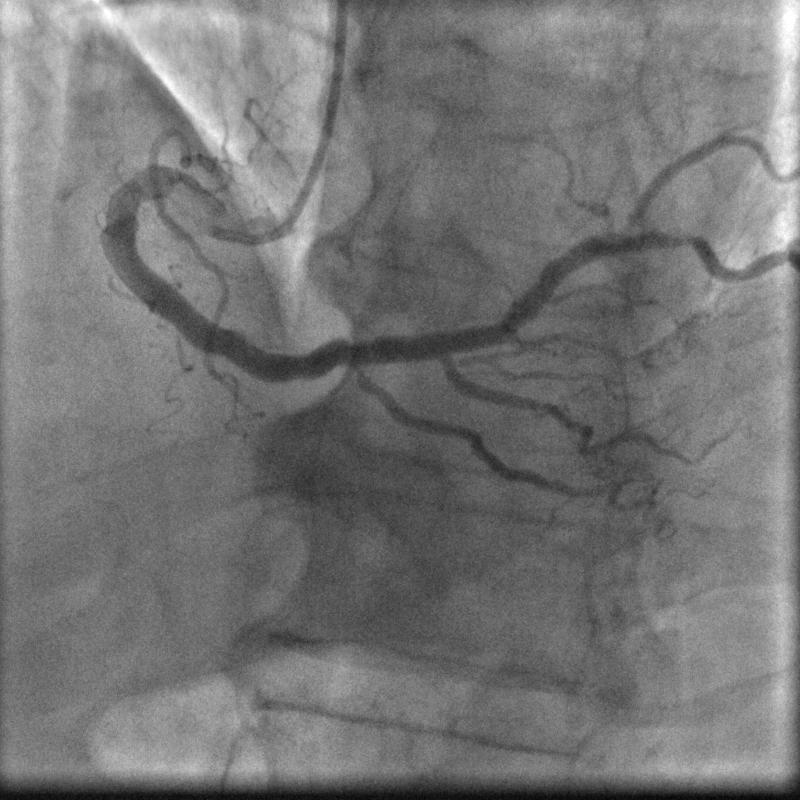Stenosis: (645, 228, 705, 255)
